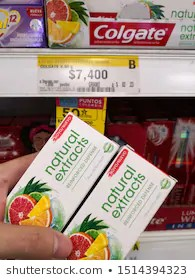colgate-medium: (62, 144, 184, 260), (6, 113, 122, 232)
